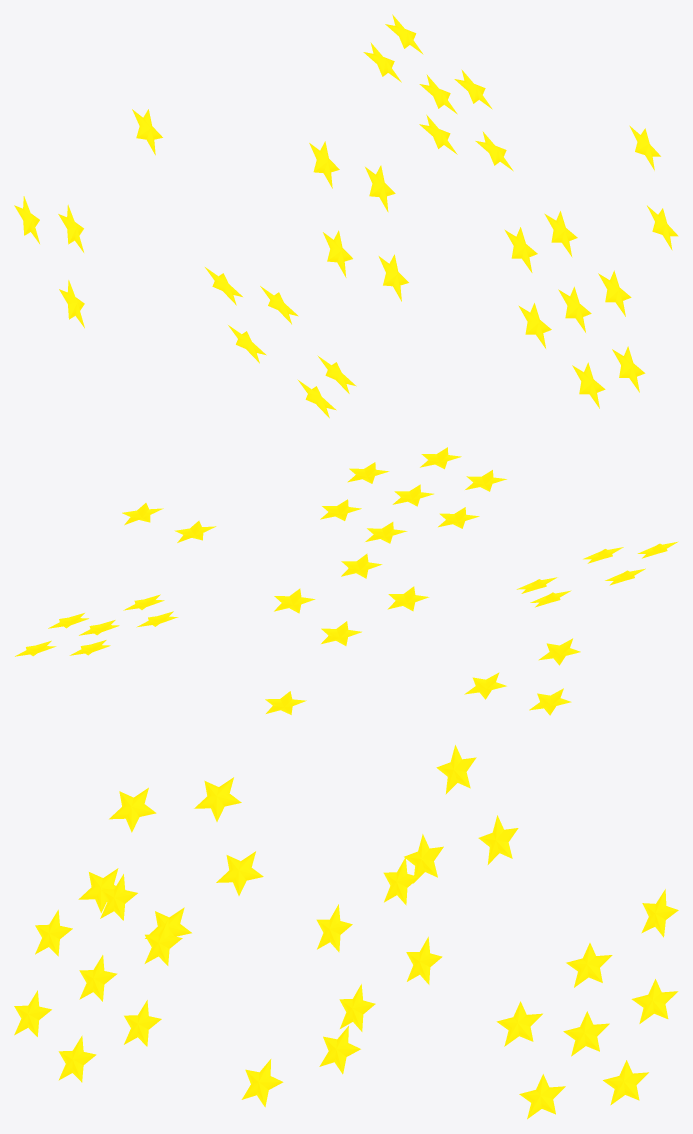
3 views of the same model, one above another, from view 1: azimuth 30°, elevation 25°; view 2: azimuth 150°, elevation 25°; view 3: azimuth 270°, elevation 25° (orthographic). The views are drawn at different scales.
Parts seen in each view (by area): view 1: Object_3; view 2: Object_3; view 3: Object_3.
Part boxes in pixels (x1,y1,x2,y2): Object_3: (14, 14, 678, 418); Object_3: (15, 447, 678, 715); Object_3: (14, 745, 678, 1119).
Size of what is drawn, in the model's own units: 69.62 by 18.5 by 70.12.
